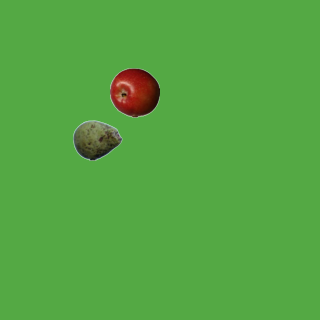Apple Braeburn: (109, 67, 159, 117)
Pear Stone: (72, 115, 122, 165)
